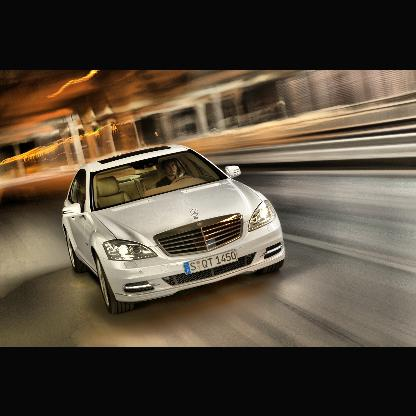Mercedes-Benz S-Class Sedan 2012: (62, 143, 289, 317)
